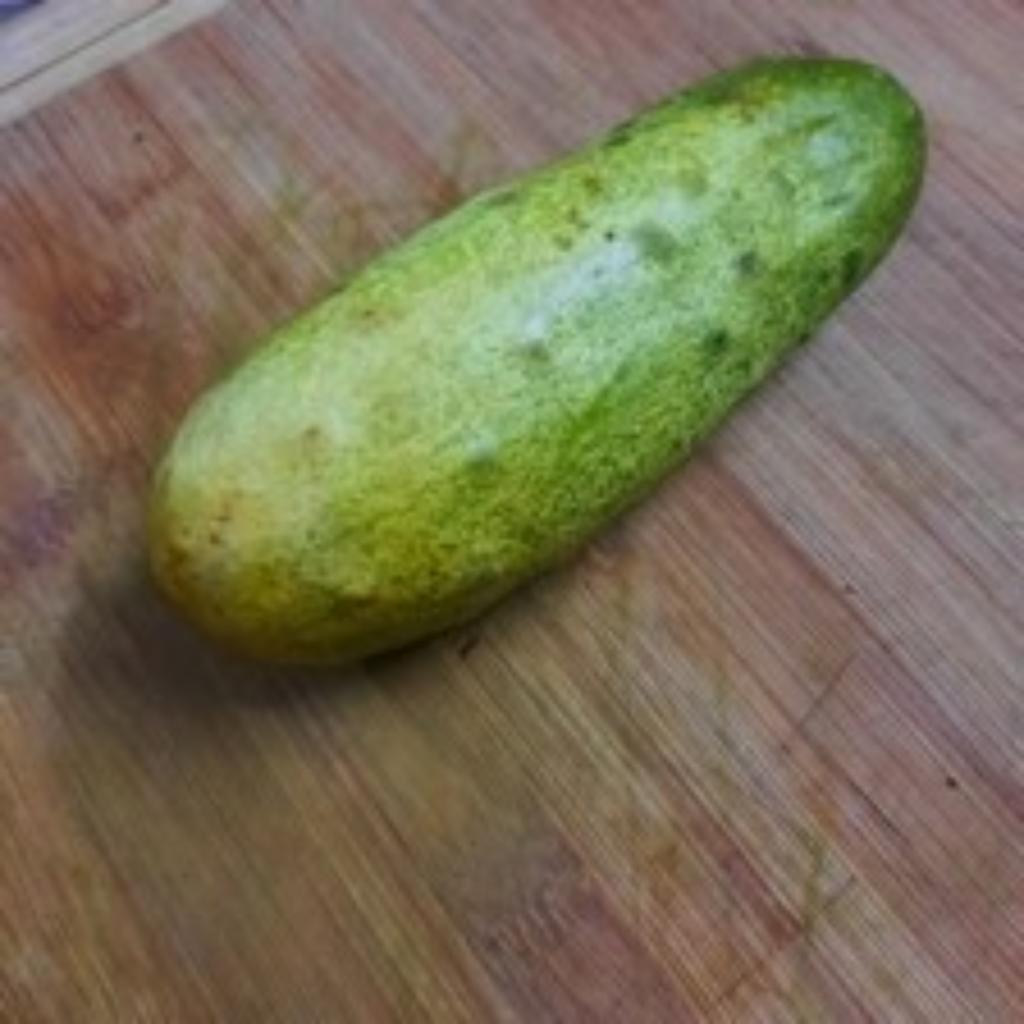tomato: (154, 58, 924, 661)
